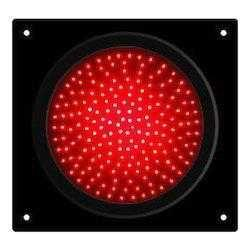red: (33, 25, 230, 229)
